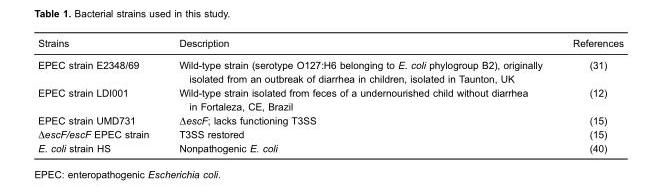table: (37, 36, 623, 153)
table column: (163, 36, 556, 153), (37, 36, 163, 153), (556, 36, 623, 153)
table column header: (37, 36, 623, 53)
table row: (37, 53, 623, 85), (37, 85, 623, 113), (37, 36, 623, 53), (37, 113, 623, 127), (37, 127, 623, 141), (37, 141, 623, 153)
